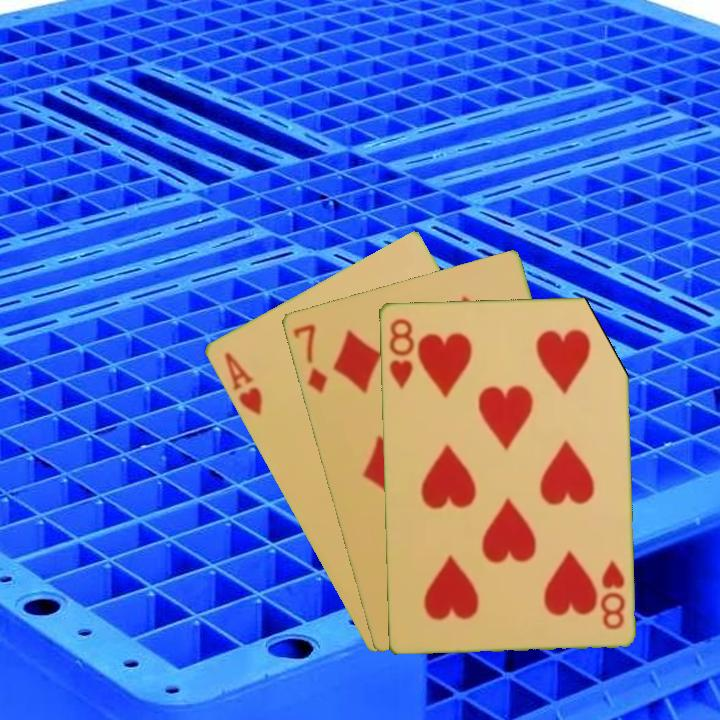7d: (289, 320, 330, 396)
8h: (596, 556, 628, 632), (385, 314, 416, 391)
Ah: (220, 348, 265, 418)
